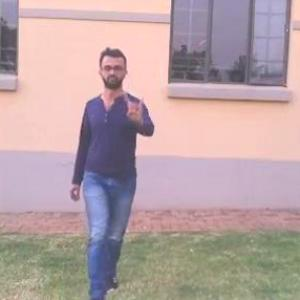takeoff-hand: (119, 87, 150, 125)
